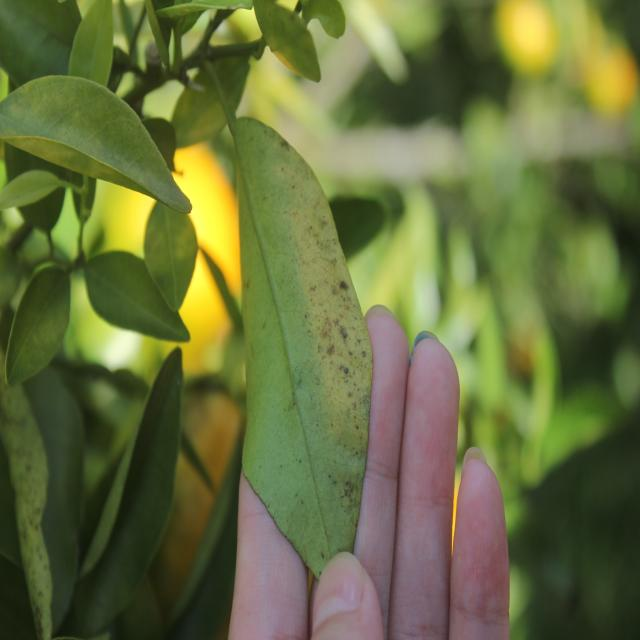melanose: (224, 153, 368, 533)
